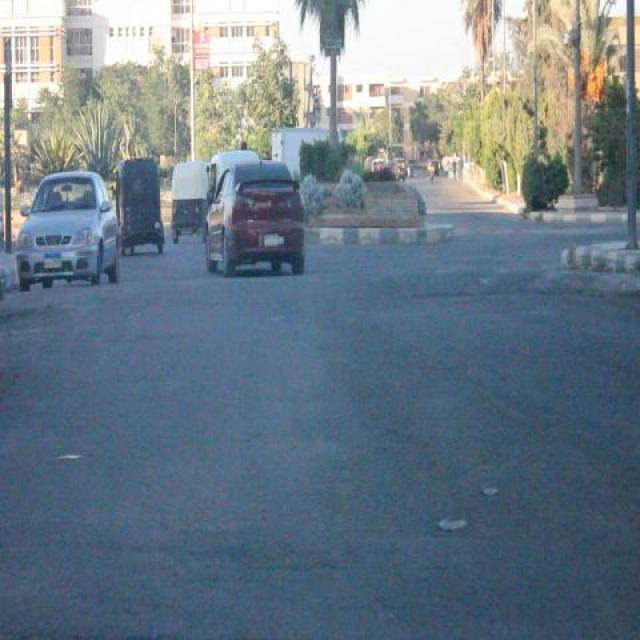Unmarked Bump: (112, 264, 638, 305), (0, 286, 111, 341)
